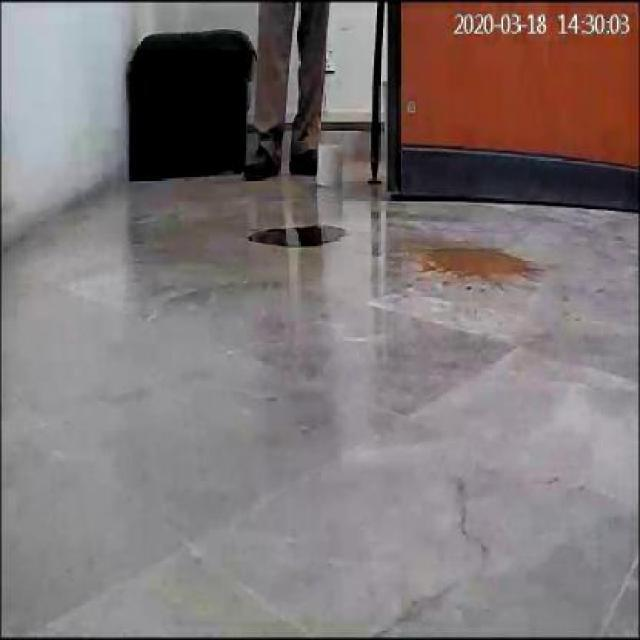spill: (402, 240, 540, 286), (248, 218, 342, 252)
